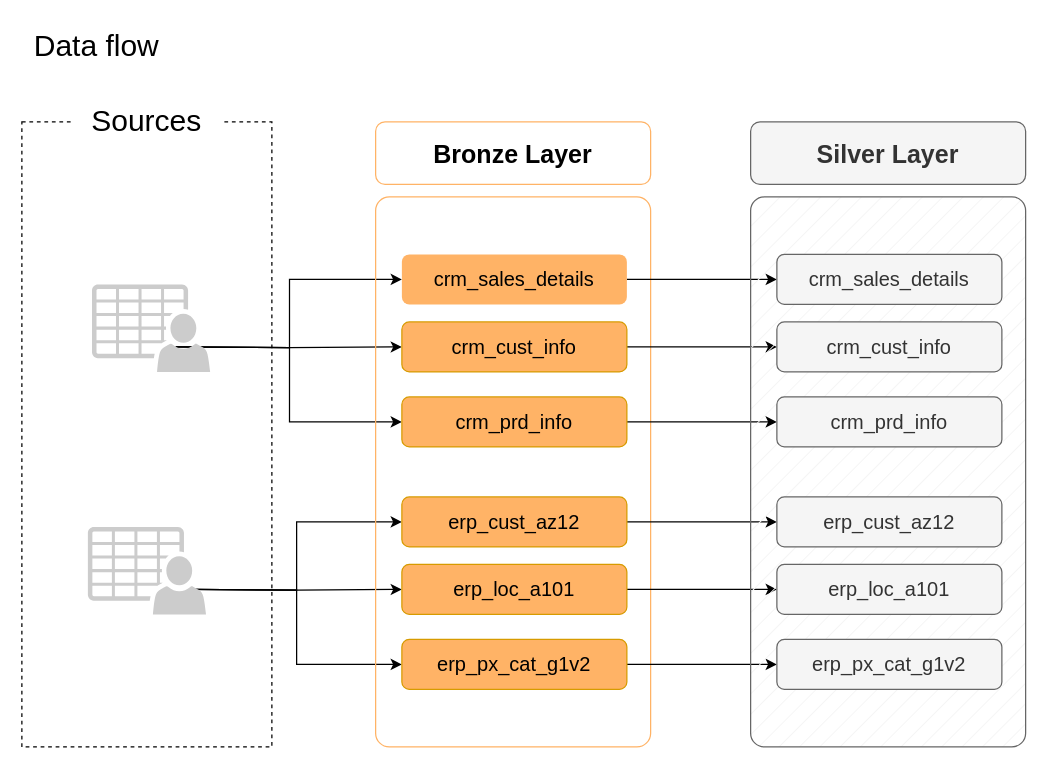
Image size: 1048x769. Some labels were removed from this diagram. The shapes that lost their labels are listed below. From the top down, each one's centre as x and y in pixels, then its label:
pixel 150 327: CRM
pixel 146 570: ERP
